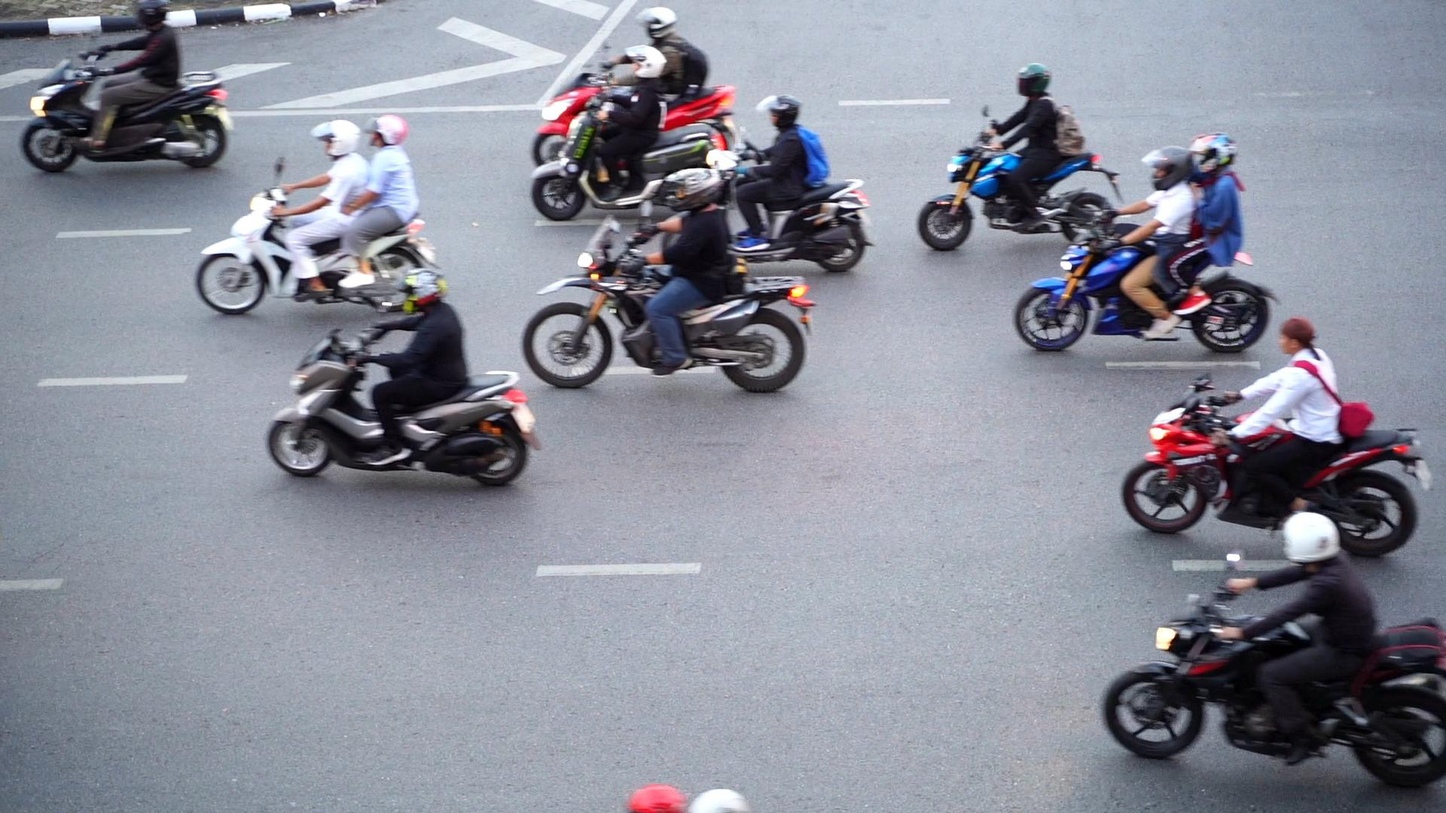driver: (1104, 512, 1446, 789), (1123, 315, 1446, 557), (523, 166, 817, 393), (266, 267, 541, 487), (1015, 129, 1281, 350), (196, 111, 440, 315), (919, 60, 1122, 252), (22, 0, 235, 172), (532, 7, 739, 167), (530, 45, 714, 220), (705, 94, 876, 272)
helmet: (1282, 512, 1342, 568), (662, 166, 726, 212), (392, 268, 450, 315), (1142, 144, 1194, 191), (1189, 132, 1239, 177), (311, 119, 362, 157), (362, 113, 409, 148), (755, 95, 801, 130), (624, 45, 668, 81), (634, 8, 679, 41), (1016, 61, 1053, 97), (133, 0, 171, 28)
no-helmet: (1278, 317, 1317, 355)
